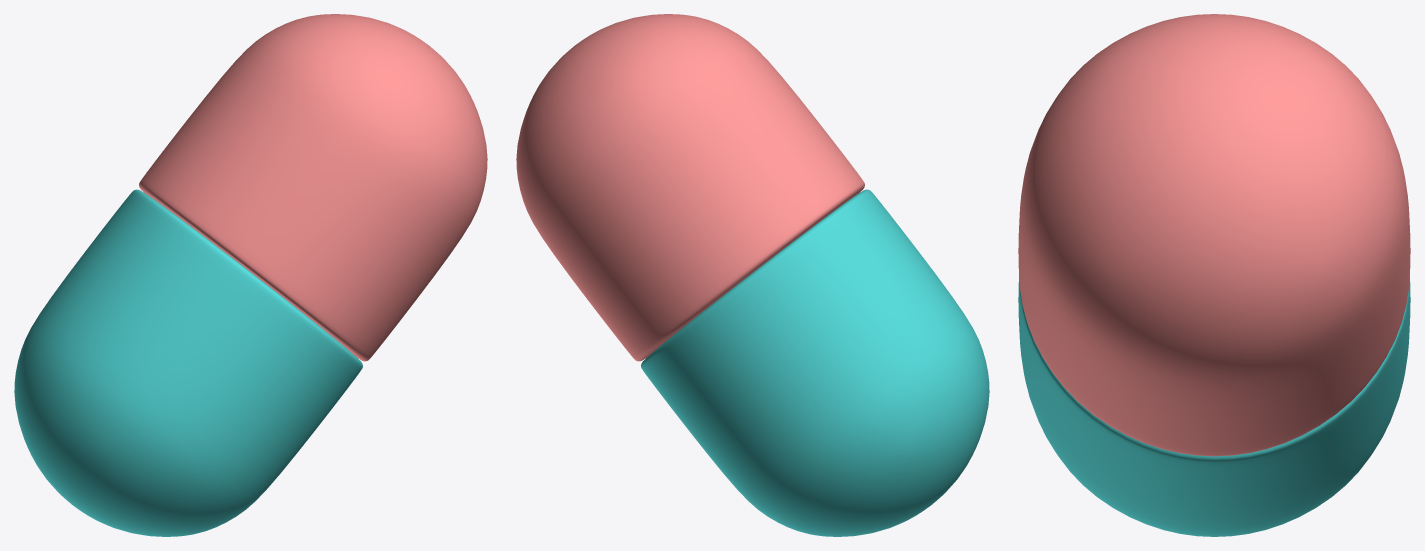
The model's file is pill.fbx.
3 renders of one model, left to right at view 1: azimuth 30°, elevation 25°; view 2: azimuth 150°, elevation 25°; view 3: azimuth 270°, elevation 25°, orthographic. The views are drawn at different scales.
Visible parts, largest first — view 1: down, up; view 2: down, up; view 3: up, down.
Boxes of the visible parts, x1=… form: down: x1=14, y1=189, x2=362, y2=536; up: x1=139, y1=14, x2=487, y2=361; down: x1=641, y1=189, x2=989, y2=536; up: x1=516, y1=14, x2=864, y2=361; up: x1=1018, y1=14, x2=1410, y2=456; down: x1=1018, y1=276, x2=1410, y2=536.
Size of the model in its own units: 30.46 by 30.48 by 17.95.
